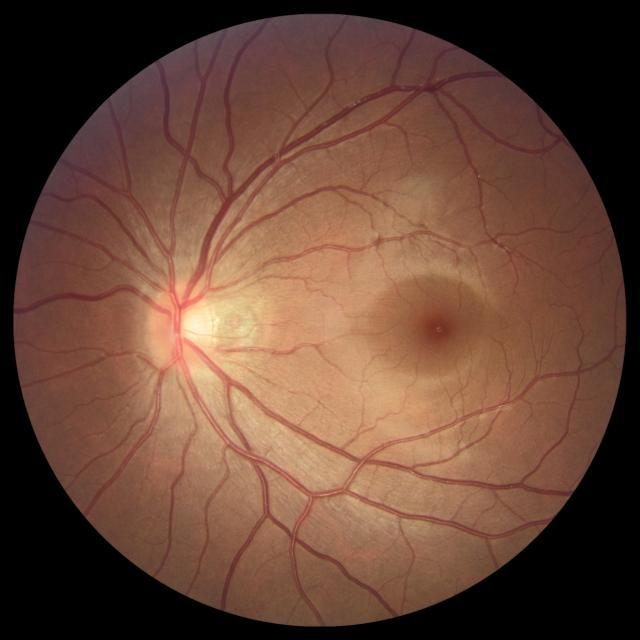OC: (170, 308, 203, 342)
OD: (146, 282, 217, 372)
